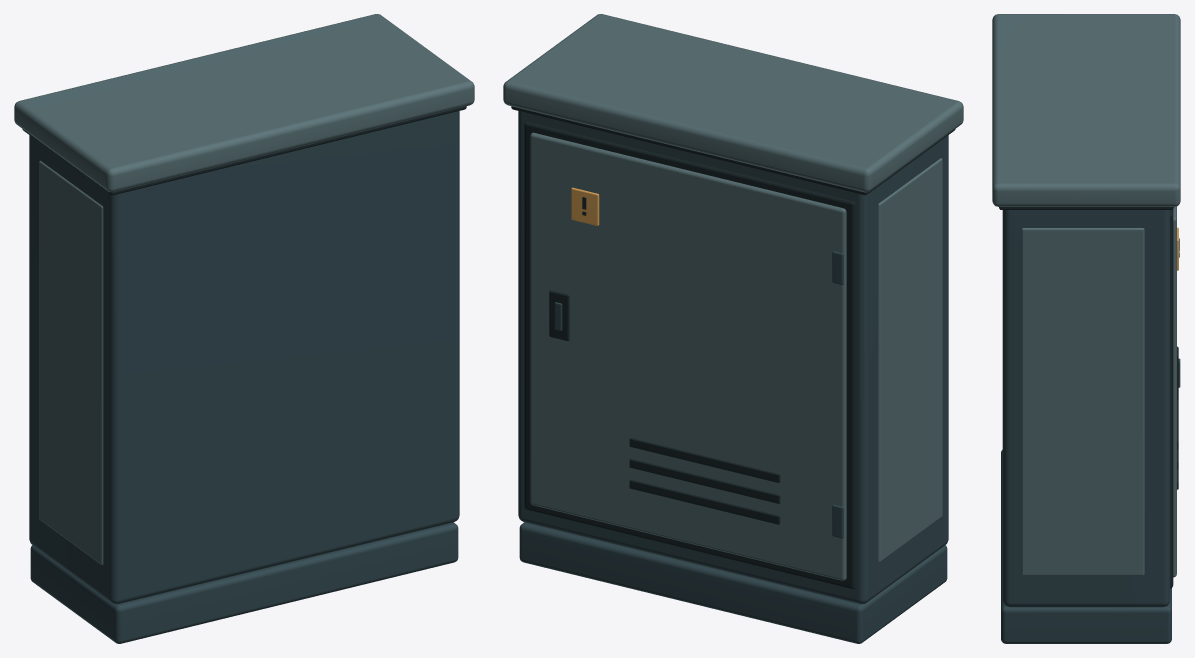
The model's file is city_service_furniture_01.glb.
3 renders of one model, left to right at view 1: azimuth 30°, elevation 25°; view 2: azimuth 150°, elevation 25°; view 3: azimuth 270°, elevation 25°, orthographic. The views are drawn at different scales.
Parts seen in each view (by area): view 1: CityServiceFurniture01_Mesh; view 2: CityServiceFurniture01_Mesh; view 3: CityServiceFurniture01_Mesh.
Boxes of the visible parts, <box> form: CityServiceFurniture01_Mesh: <box>14,14,474,643</box>; CityServiceFurniture01_Mesh: <box>503,14,963,643</box>; CityServiceFurniture01_Mesh: <box>992,14,1180,643</box>.
Bounding box in the file's own units: 1.2 × 1.5 × 0.55.
